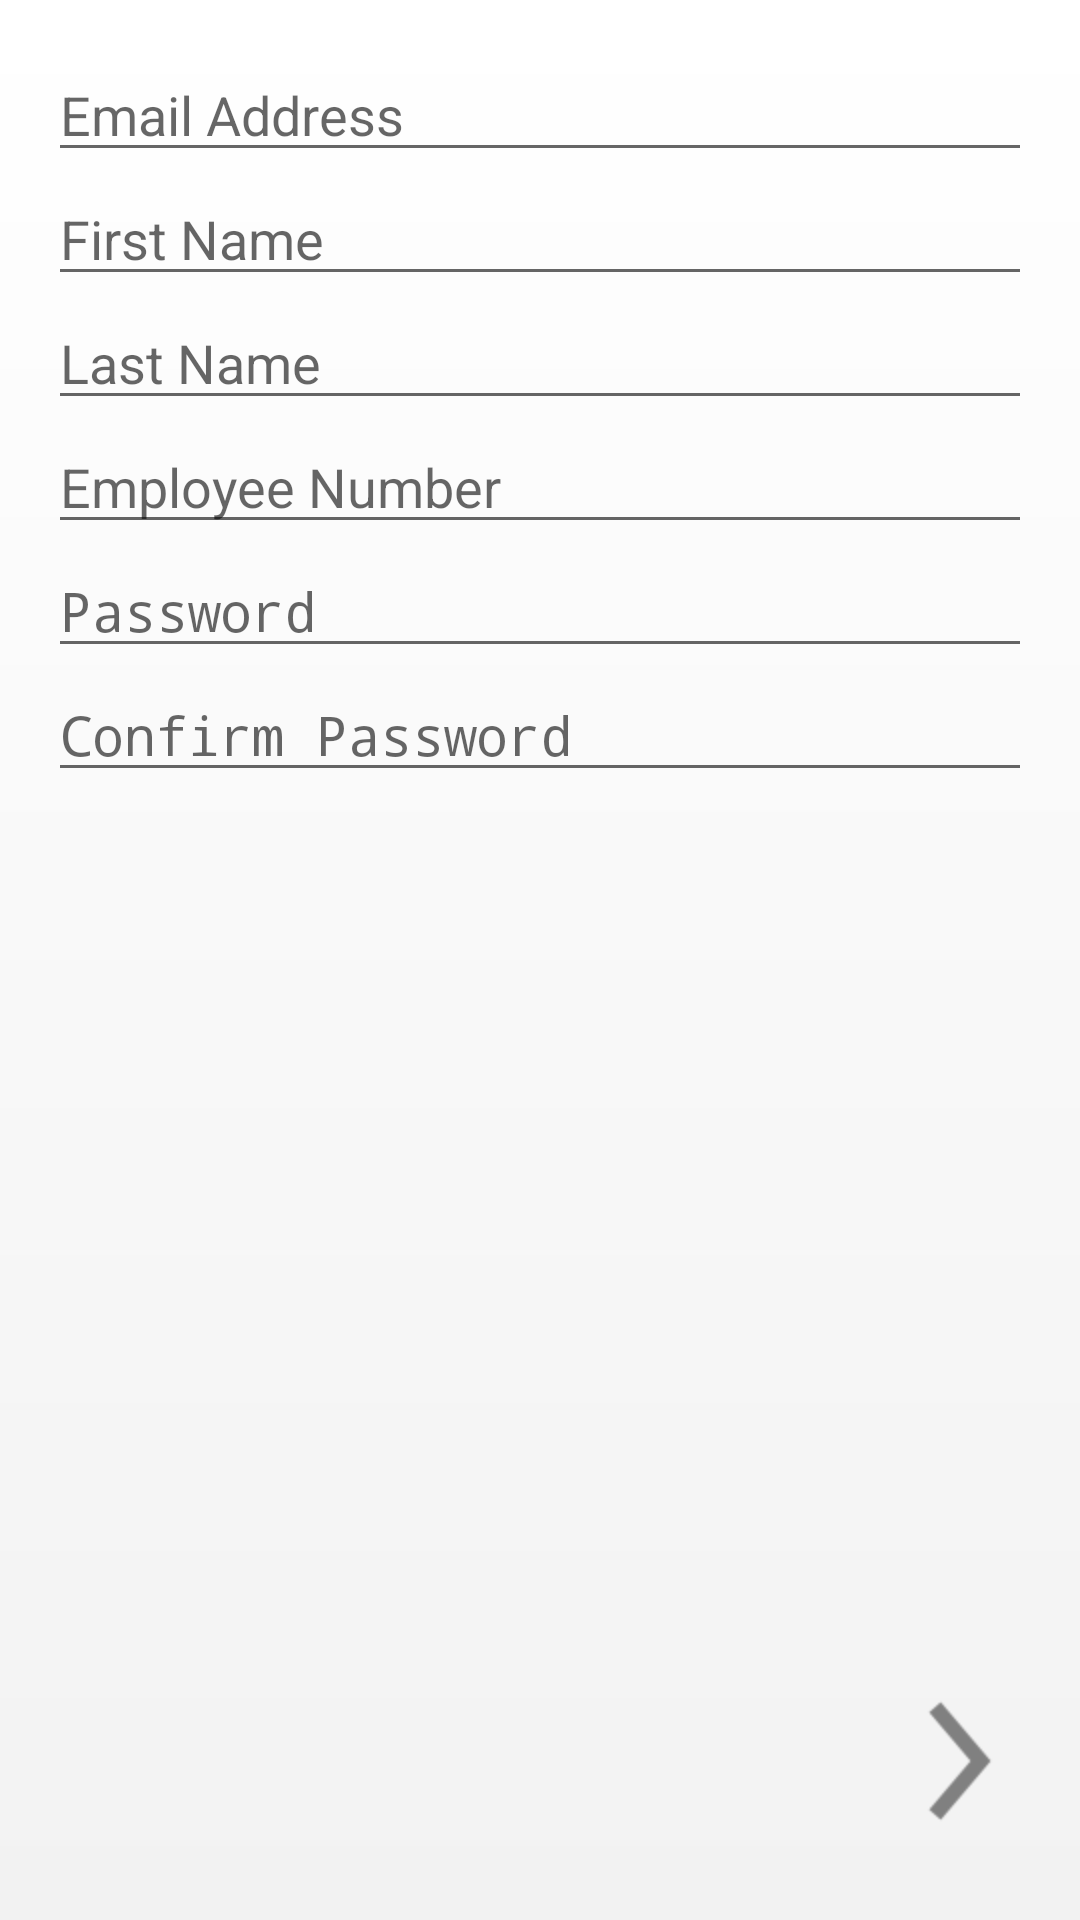

Where icons sit on this 1080 x 1920 app screen, as (x1, y1, x2, y2):
next: (929, 1702, 991, 1820)
